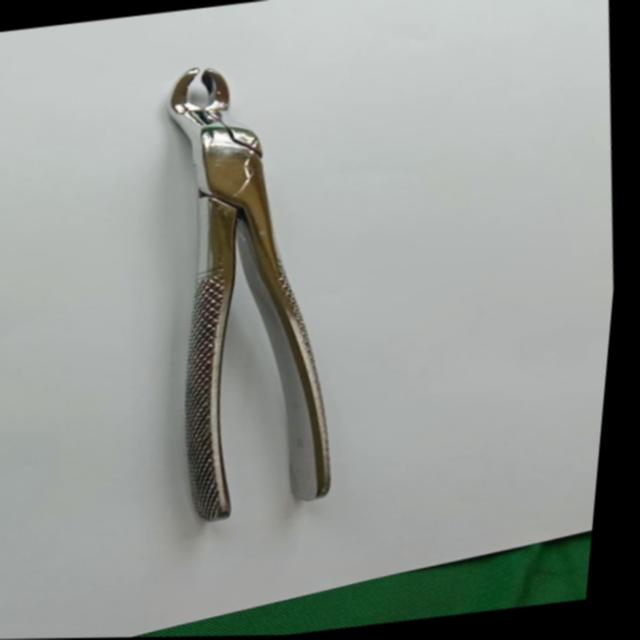BayonetForcep: (123, 45, 403, 532)
